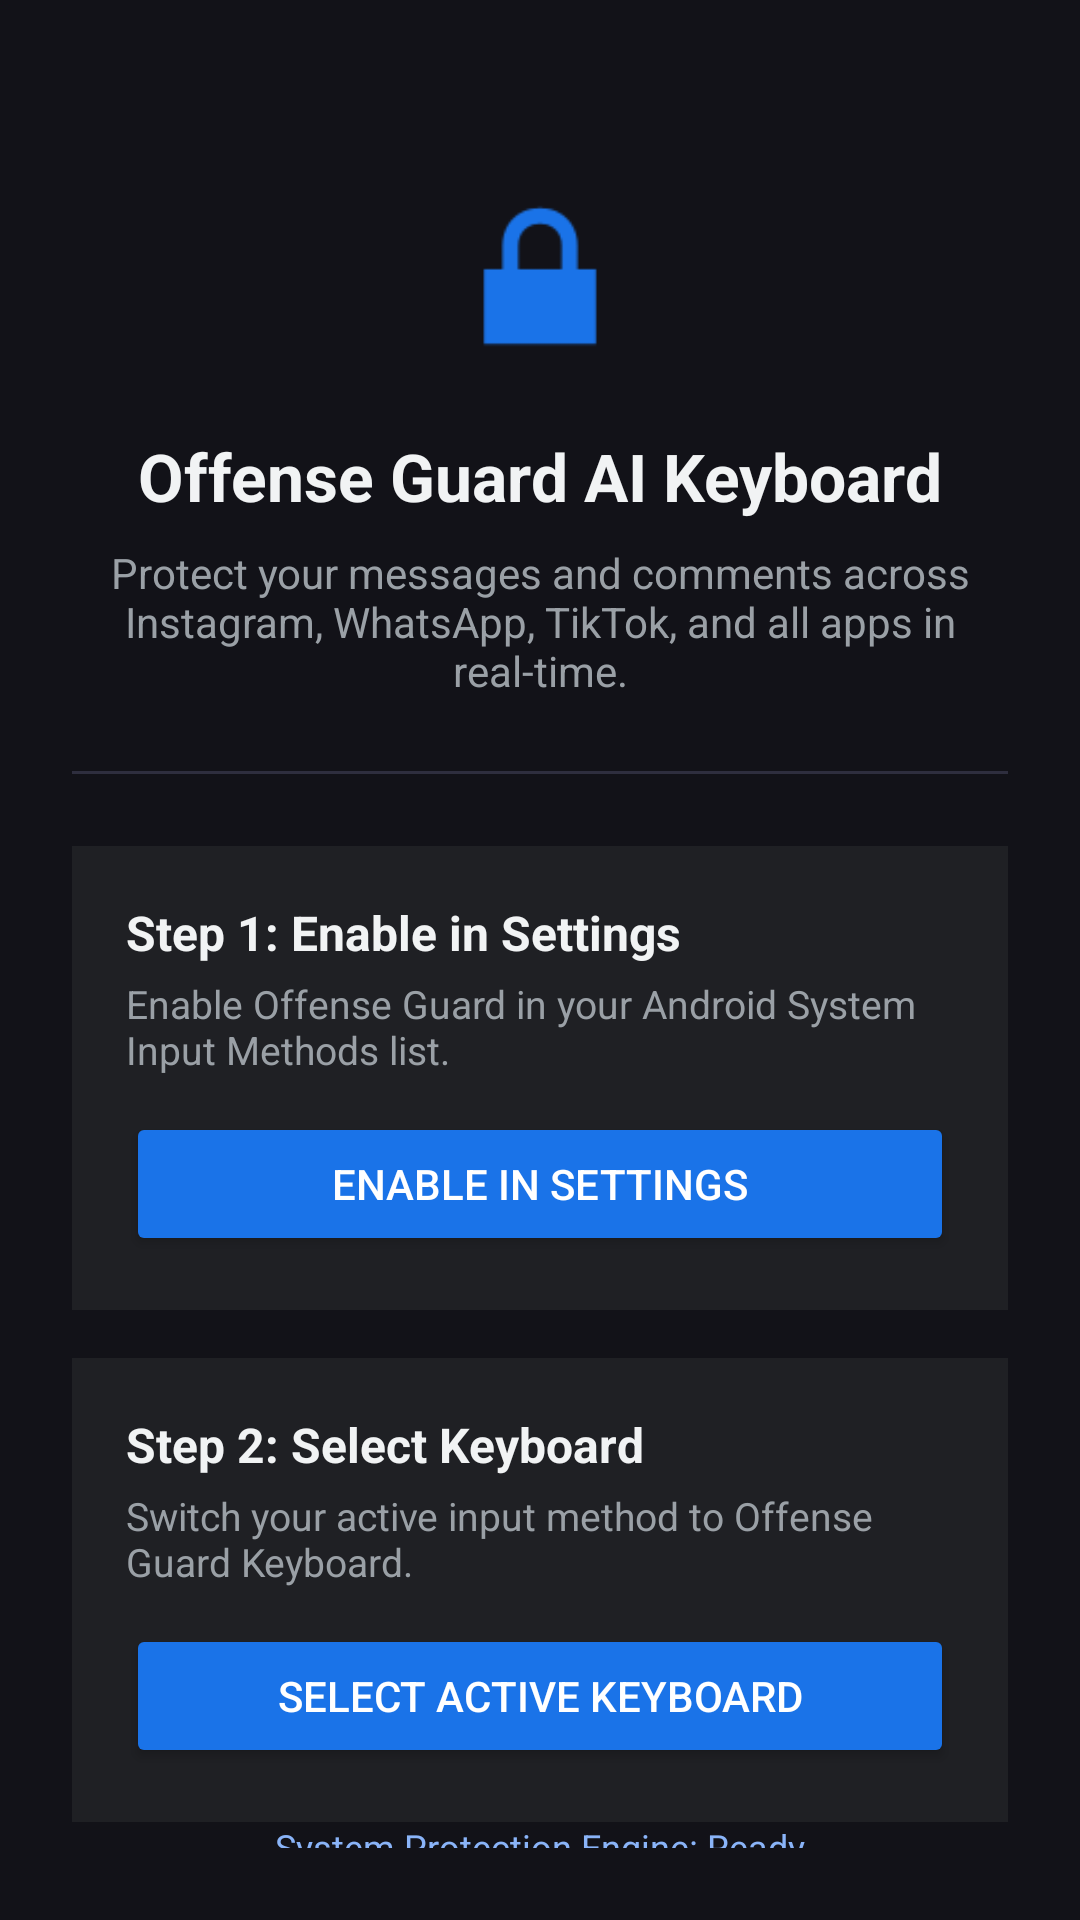

Named icons in this screenshot (1080w x 1920h) and their centers, [x,y]:
lock: [540,276]
